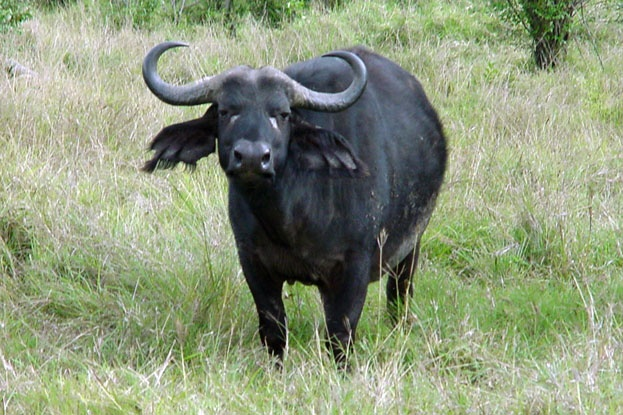buffalo: (139, 37, 449, 385)
